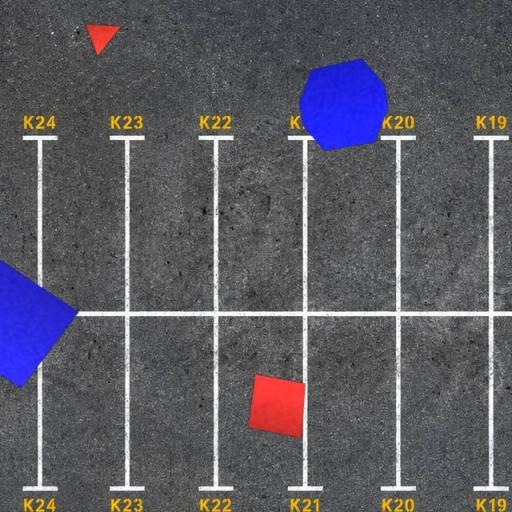BLUE_SQUARE: (0, 259, 80, 389)
RED_SQUARE: (248, 374, 306, 439)
